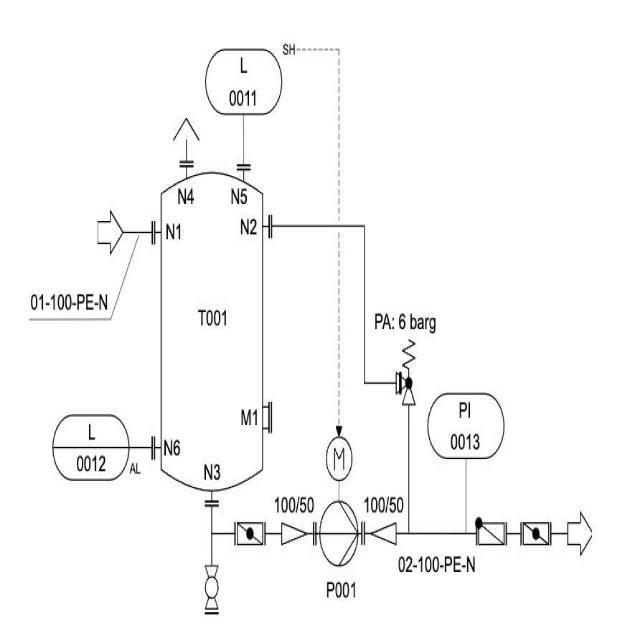Ball Valve: (193, 555, 232, 613)
PSV: (394, 332, 422, 413)
